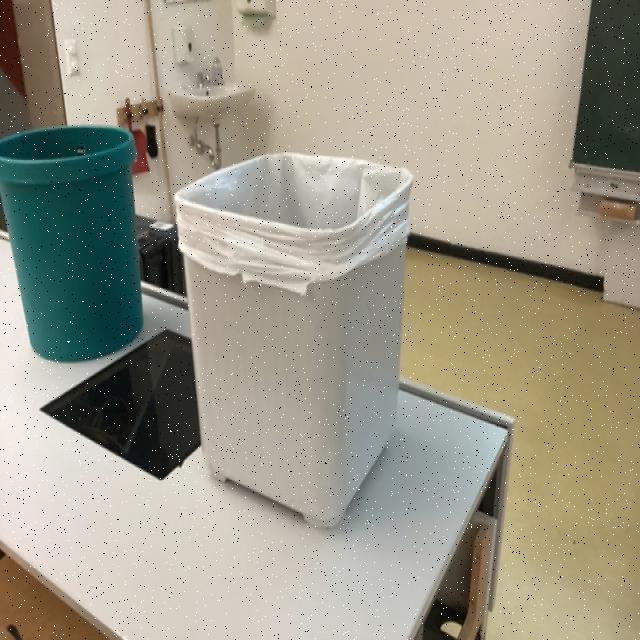garbage container: (161, 138, 445, 540), (0, 96, 145, 382)
